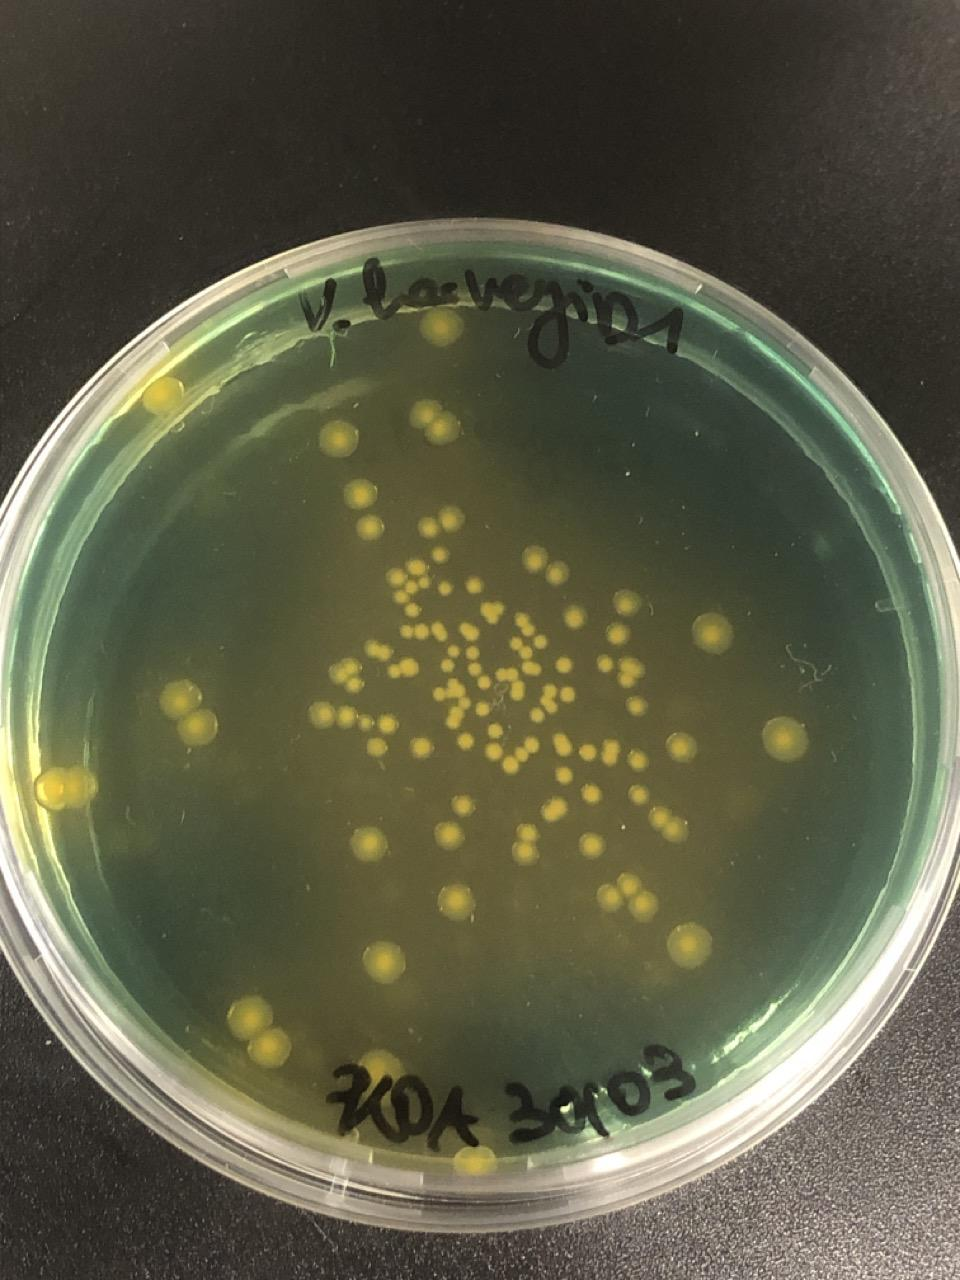vharveyi: (598, 874, 662, 924), (33, 768, 100, 812), (404, 397, 461, 448), (162, 684, 212, 742), (385, 557, 433, 594), (363, 713, 401, 758), (416, 506, 463, 540), (328, 656, 366, 698), (366, 940, 404, 980), (671, 926, 709, 966), (320, 418, 358, 458), (144, 375, 182, 415), (648, 806, 687, 844), (764, 718, 800, 758), (694, 613, 730, 653), (421, 308, 458, 344), (456, 1144, 494, 1178), (360, 1052, 398, 1086), (508, 638, 542, 676), (310, 704, 358, 730), (512, 820, 539, 866), (354, 512, 388, 547), (439, 886, 472, 918), (391, 589, 424, 621), (254, 1030, 286, 1062), (233, 1000, 265, 1032), (352, 828, 384, 860), (431, 819, 463, 851), (665, 732, 697, 764), (610, 586, 642, 618), (344, 476, 376, 508), (433, 678, 465, 702), (388, 658, 420, 678), (620, 659, 643, 685), (580, 834, 604, 858), (547, 795, 571, 819), (579, 782, 603, 806), (626, 749, 650, 773), (409, 736, 433, 760), (624, 692, 648, 716), (562, 606, 586, 630), (547, 562, 571, 586), (523, 548, 547, 572), (538, 685, 558, 713), (479, 602, 504, 624), (364, 642, 391, 662), (451, 794, 475, 816), (628, 784, 652, 806), (465, 646, 481, 679), (606, 624, 630, 646), (515, 612, 534, 636), (577, 742, 599, 762), (483, 742, 505, 762), (555, 734, 575, 756), (594, 653, 616, 673), (434, 579, 456, 599), (464, 576, 486, 596), (431, 544, 453, 564), (400, 625, 429, 640), (553, 766, 575, 784), (431, 620, 449, 642), (602, 740, 618, 764), (474, 701, 494, 720), (501, 756, 521, 774), (524, 737, 544, 755), (456, 734, 476, 752), (485, 722, 505, 740), (444, 713, 464, 731), (558, 685, 578, 703), (554, 656, 574, 674), (462, 624, 482, 642), (496, 668, 518, 681), (440, 656, 454, 674), (359, 716, 373, 732), (479, 674, 492, 691), (534, 635, 548, 649), (448, 642, 460, 656), (460, 698, 472, 711), (530, 710, 542, 722), (512, 681, 524, 692)
